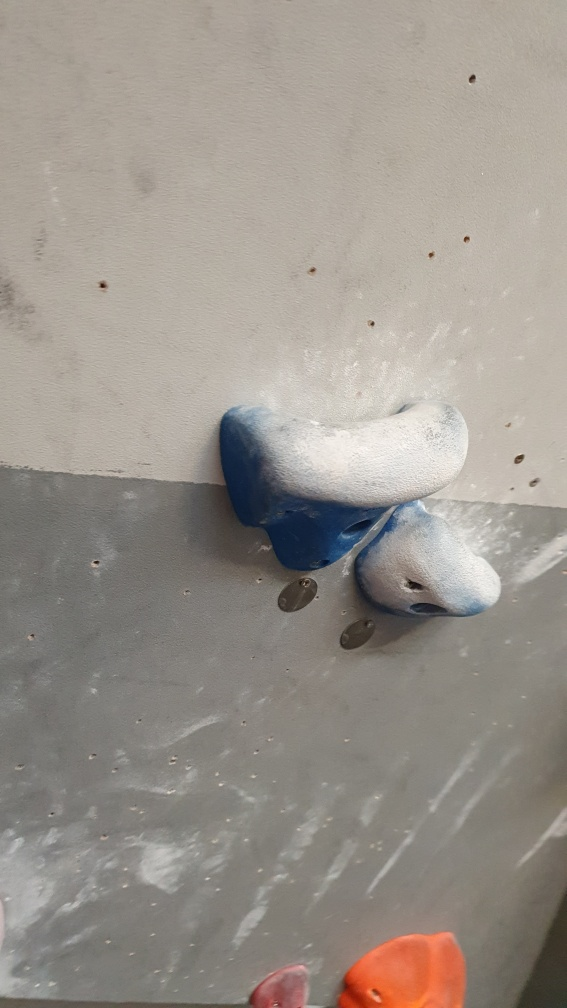Hand Start: (268, 572, 325, 617), (338, 614, 381, 656)
Jug: (214, 396, 472, 576), (355, 491, 509, 634)
